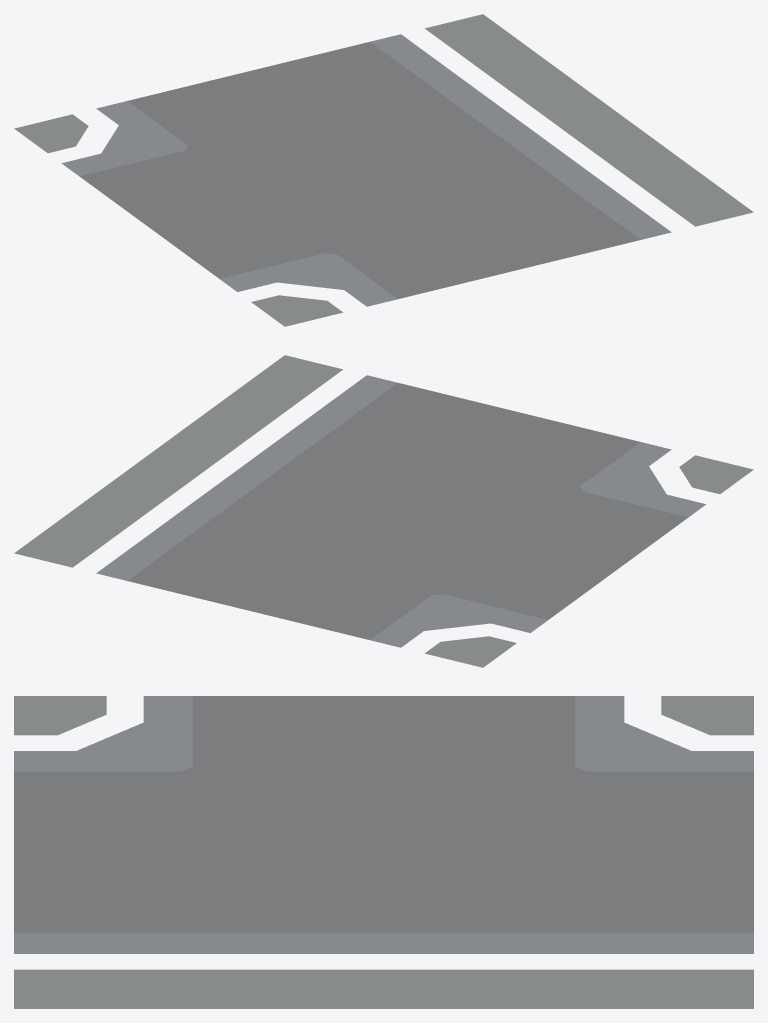
File: Ceiling_type_B_008_012.glb
3 views of the same model, one above another, from view 1: azimuth 30°, elevation 25°; view 2: azimuth 150°, elevation 25°; view 3: azimuth 270°, elevation 25° (orthographic). The views are drawn at different scales.
Visible parts, largest first — view 1: Ceiling_type_B_008.012; view 2: Ceiling_type_B_008.012; view 3: Ceiling_type_B_008.012.
Boxes of the visible parts, box(x1,y1,x2,y2) form: Ceiling_type_B_008.012: box(14, 14, 753, 326); Ceiling_type_B_008.012: box(14, 355, 753, 667); Ceiling_type_B_008.012: box(14, 696, 753, 1008).
Bounding box in the file's own units: 4 × 0.0455 × 4.
Materials: 2 (2 with a texture image).
